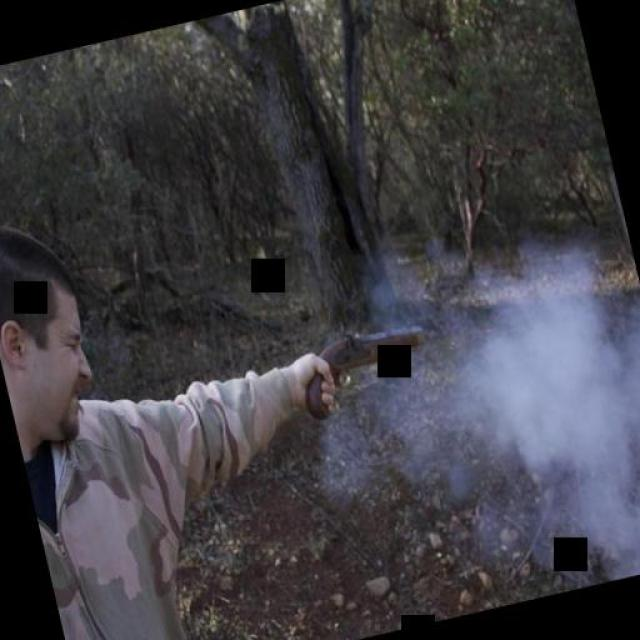gun: (286, 307, 445, 428)
